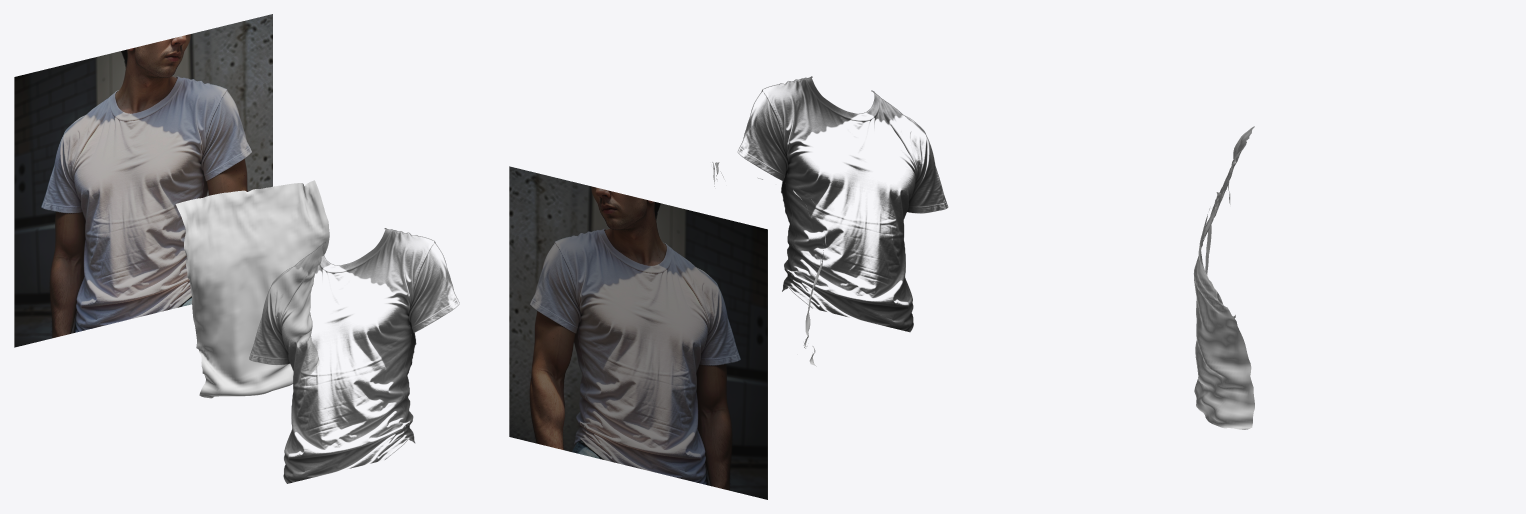
File: myScene13.glb
The picture shows the model from 3 angles, left to right: view 1: azimuth 30°, elevation 25°; view 2: azimuth 150°, elevation 25°; view 3: azimuth 270°, elevation 25°; orthographic projection. The views are drawn at different scales.
Visible parts, largest first — view 1: image, geometry, shades; view 2: image, shades; view 3: geometry.
Part boxes in pixels (x1=…): image: x1=14, y1=14, x2=272, y2=347; geometry: x1=175, y1=180, x2=329, y2=398; shades: x1=249, y1=228, x2=459, y2=483; image: x1=509, y1=166, x2=767, y2=499; shades: x1=737, y1=76, x2=948, y2=332; geometry: x1=1193, y1=126, x2=1254, y2=429.
Size of the model in its own units: 4.03 by 4.03 by 5.6.
3 materials, 2 textured.
